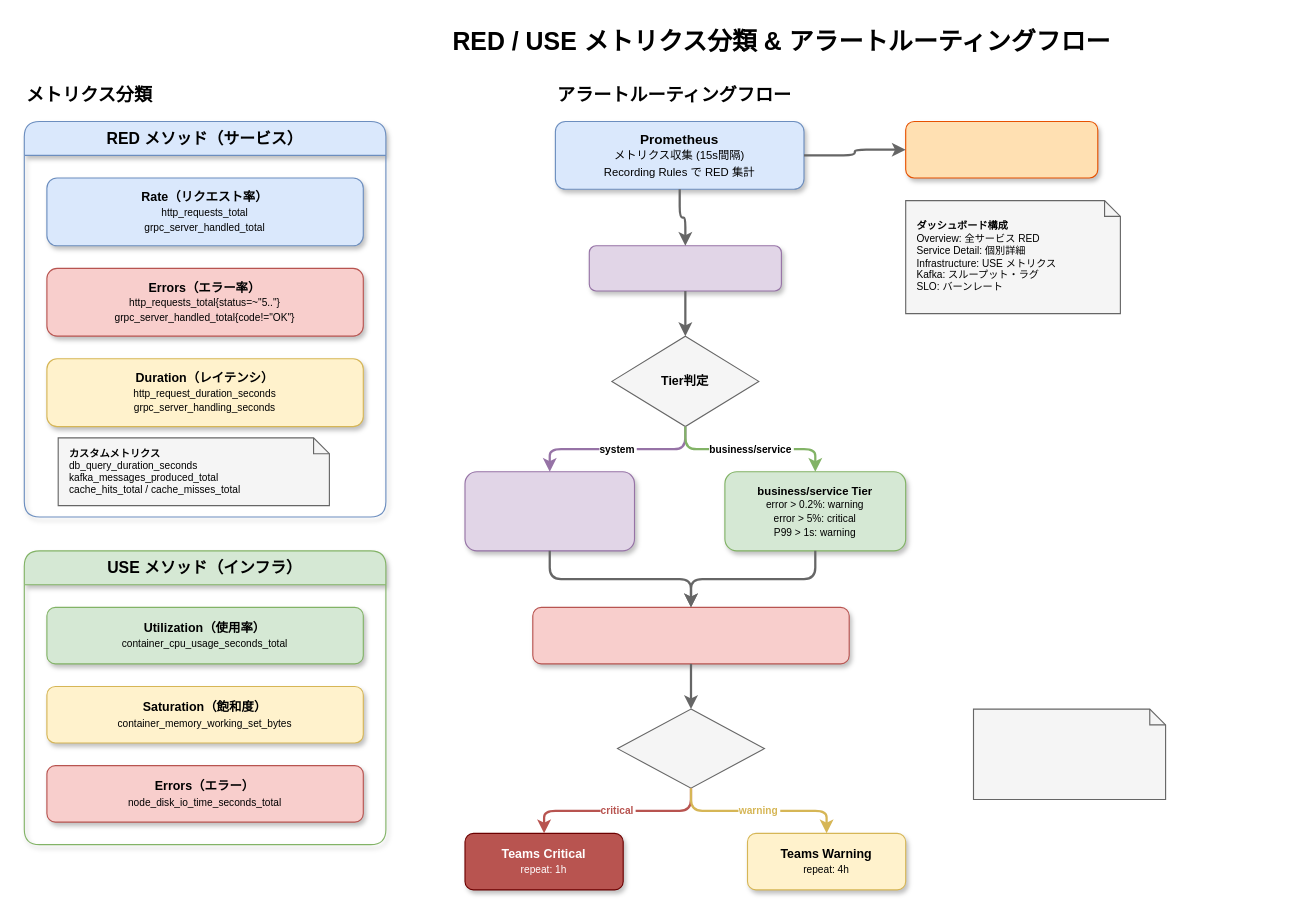
Some shapes in this 1310 by 918 pixel diagram are drawn without their labels. Here are the shapes that lost their labels. From the top down, the centre of each, then its label:
(1002,151): Grafana ダッシュボード可視化
(686,269): アラートルール評価
(550,512): system Tier error > 0.1%: warning error > 1%: critical P99 > 500ms: warning
(691,637): Alertmanager group_by: alertname, namespace, service
(690,748): severity?
(1069,753): 環境別アラート抑制 dev: 全無効 staging: critical のみ prod: 全有効
